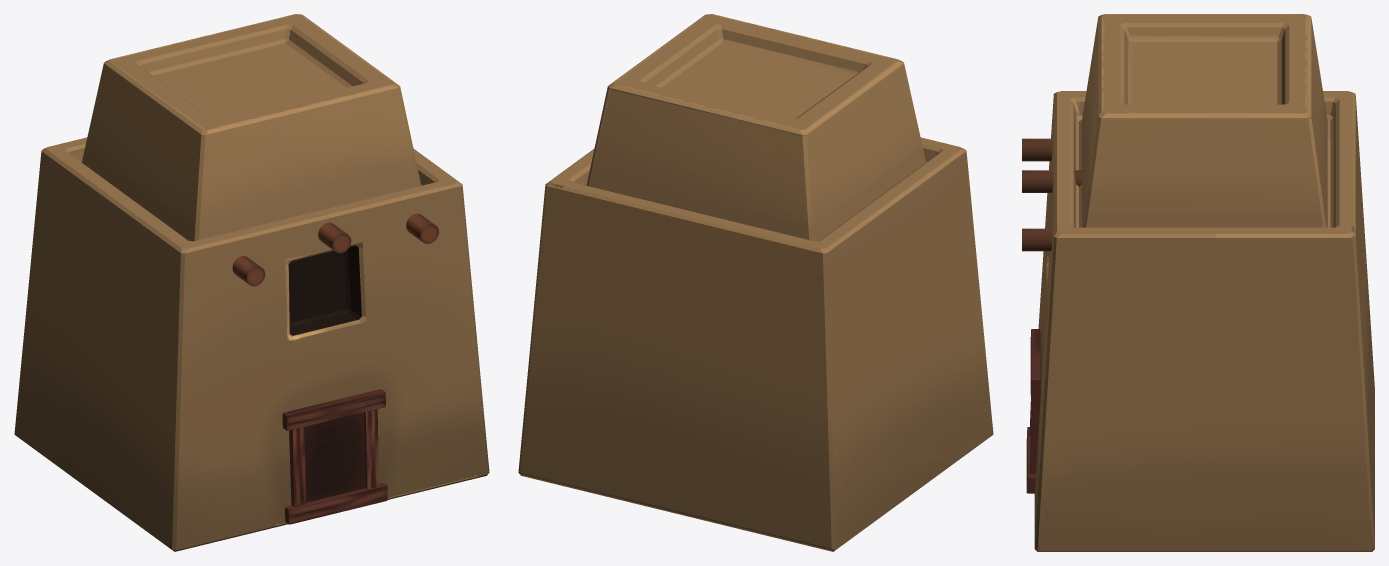
File: CasaPraca5.fbx
3 renders of one model, left to right at view 1: azimuth 30°, elevation 25°; view 2: azimuth 150°, elevation 25°; view 3: azimuth 270°, elevation 25°, orthographic. The views are drawn at different scales.
Visible parts, largest first — view 1: Cube.025, Cube.026, Cube.030, Cube.028, Cylinder.012, Cylinder.013, Cylinder.014; view 2: Cube.025; view 3: Cube.025, Cube.030, Cylinder.012, Cylinder.013, Cylinder.014, Cube.028.
Boxes of the visible parts, x1,y1,x2,y2 form: Cube.025: (14,14,489,551); Cube.026: (304,412,365,502); Cube.030: (282,389,387,524); Cube.028: (289,409,378,507); Cylinder.012: (318,222,351,253); Cylinder.013: (232,256,265,286); Cylinder.014: (406,213,438,243); Cube.025: (518,14,993,551); Cube.025: (1034,14,1374,551); Cube.030: (1026,329,1040,493); Cylinder.012: (1022,170,1083,192); Cylinder.013: (1022,138,1052,161); Cylinder.014: (1022,228,1052,251); Cube.028: (1029,345,1040,474).
Bounding box in the file's own units: 823 × 951 × 747.
Materials: 6 (6 with a texture image).
